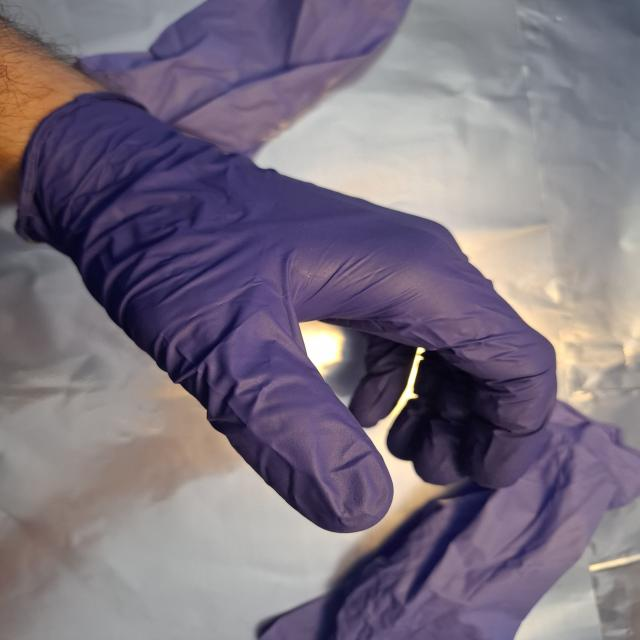glove_on: (16, 89, 565, 538)
